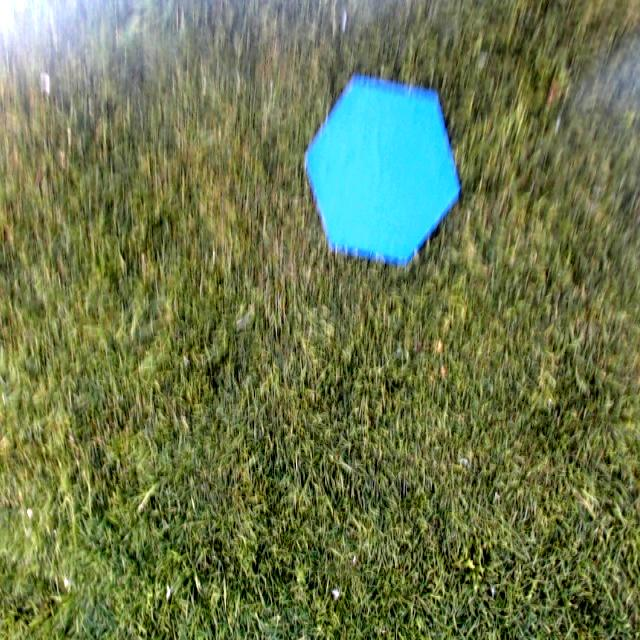blue_hexagon: (304, 78, 459, 261)
